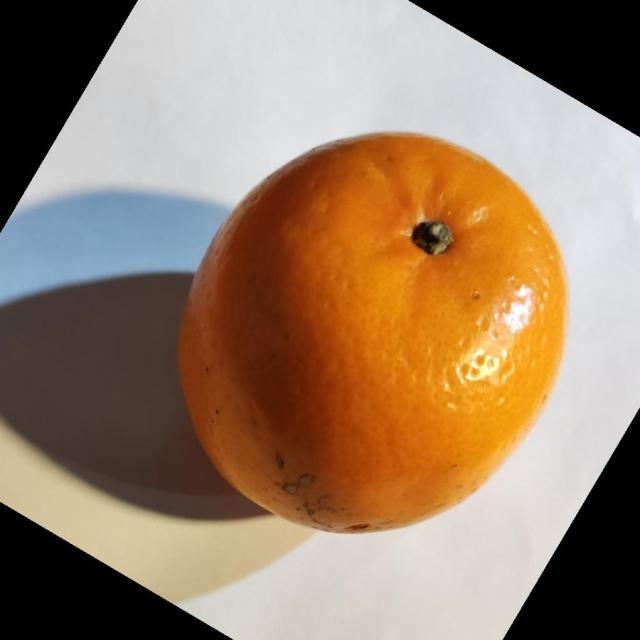agrume: (176, 129, 568, 535)
